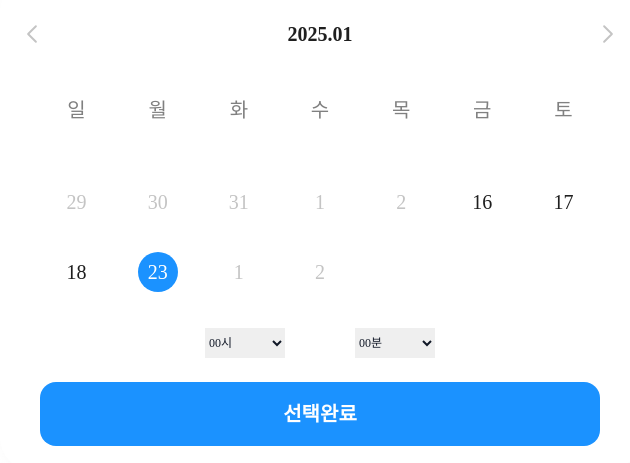
Test: CalendarCard › navigates to previous month
The image size is (630, 463).
Click the picture with alt text "이전 달".
click(32, 34)  # box x1=14 y1=16 x2=50 y2=52
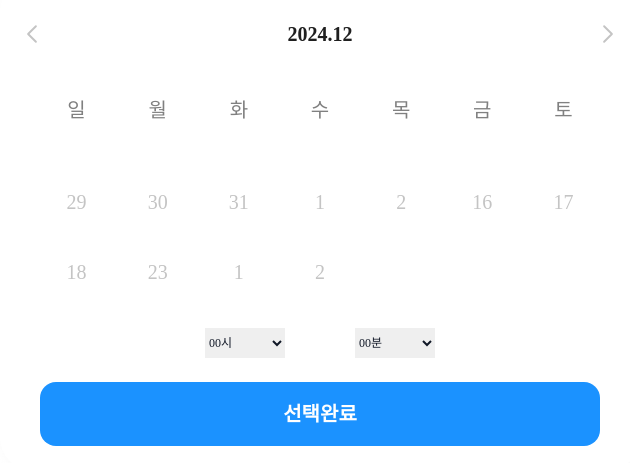
Now the text "2024.12" is shown, box x1=288 y1=19 x2=352 y2=49
